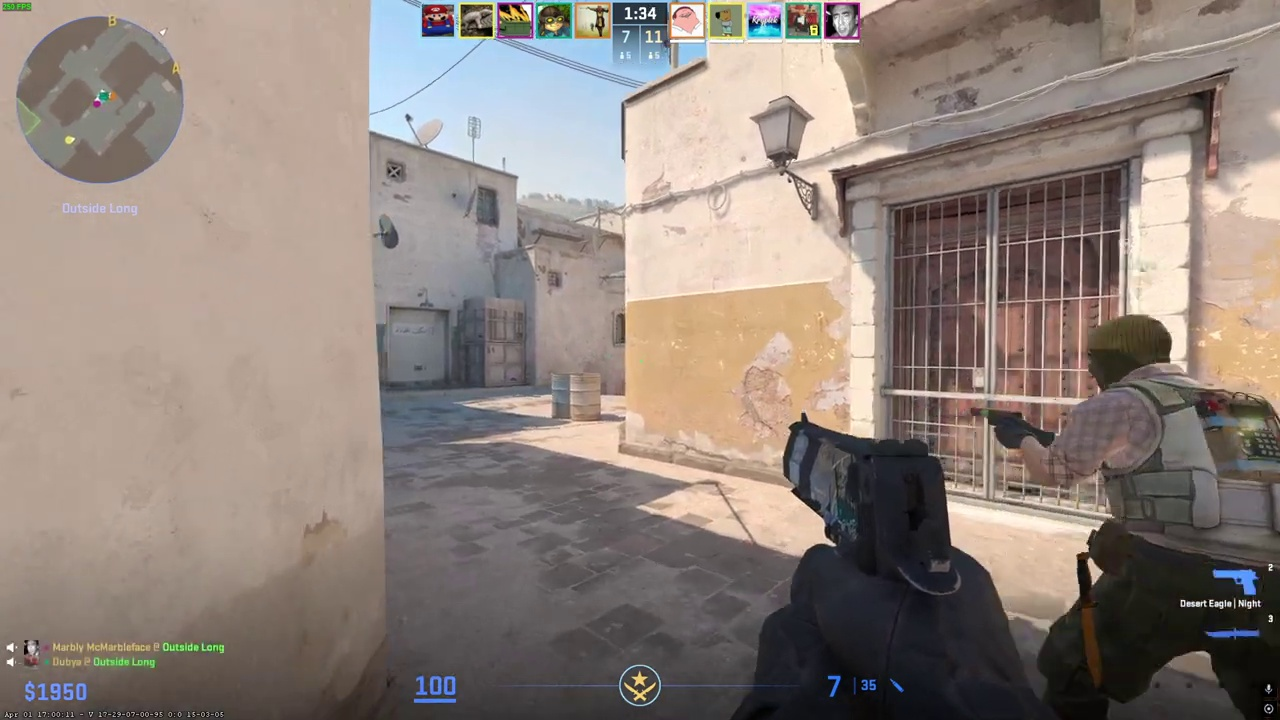Terrorist: (1030, 313, 1277, 720)
